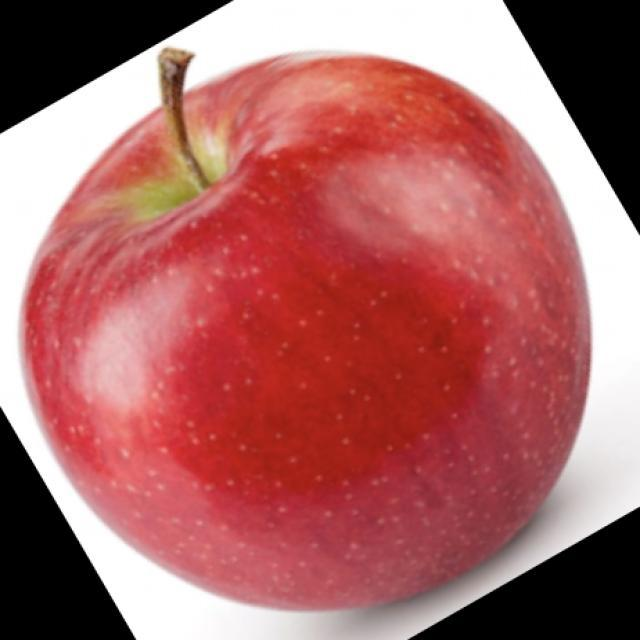Fresh Apple: (4, 63, 588, 592)
